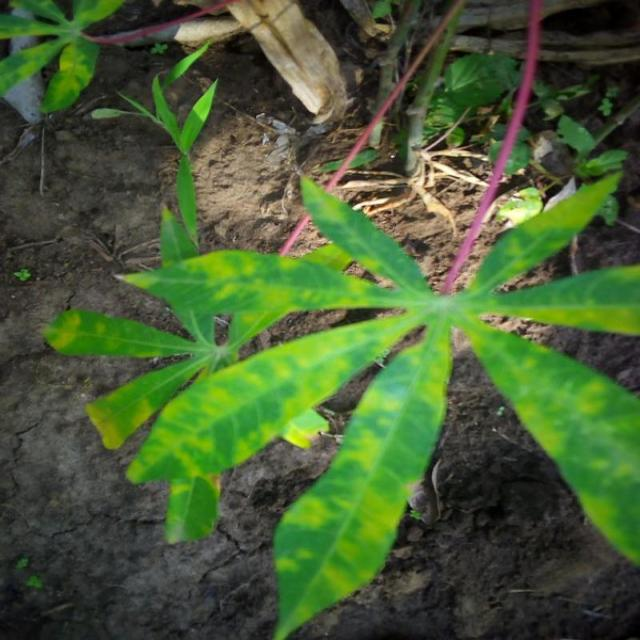cassava leaf: (42, 162, 638, 638), (270, 322, 453, 639)
